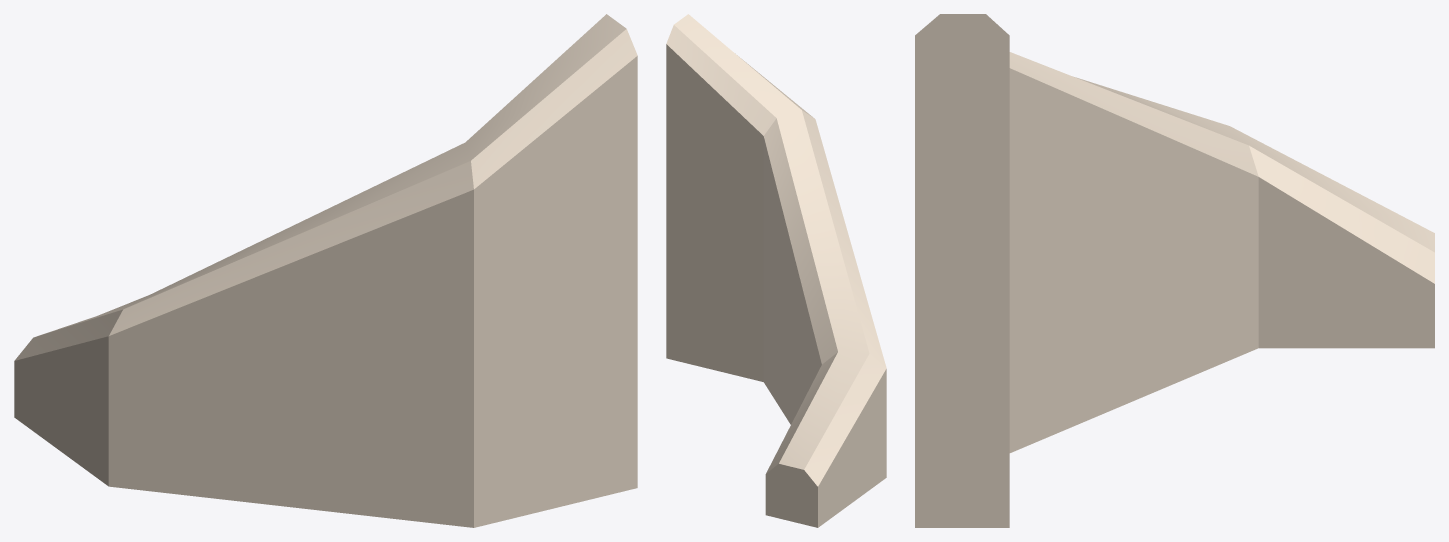
The model's file is temple_Stairs_Coping_Ramp_Curved_Small.glb.
The picture shows the model from 3 angles, left to right: view 1: azimuth 30°, elevation 25°; view 2: azimuth 150°, elevation 25°; view 3: azimuth 270°, elevation 25°; orthographic projection. The views are drawn at different scales.
Parts seen in each view (by area): view 1: object1; view 2: object1; view 3: object1.
Boxes of the visible parts, x1,y1,x2,y2 form: object1: (14,14,637,527); object1: (666,14,886,527); object1: (915,14,1434,527).
Size of the model in its own units: 1.1 by 1.2 by 1.1.
